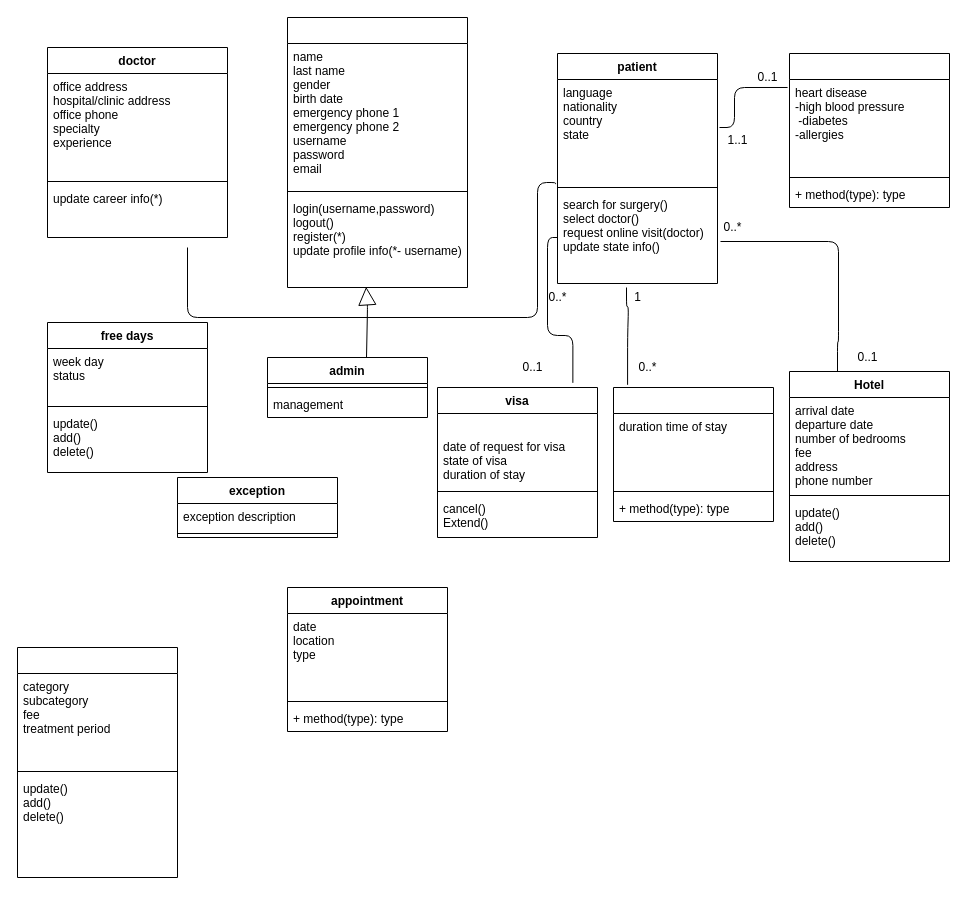
The diagram is 967 pixels wide and 898 high, and some of its shapes have lost their labels. Each missing label, with the box of its shape:
companian: (612, 386, 774, 522)
medical history: (788, 52, 950, 208)
person: (286, 16, 468, 288)
surgery: (16, 646, 178, 878)
